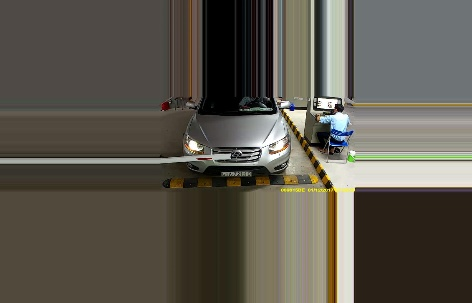plate: (219, 167, 255, 179)
